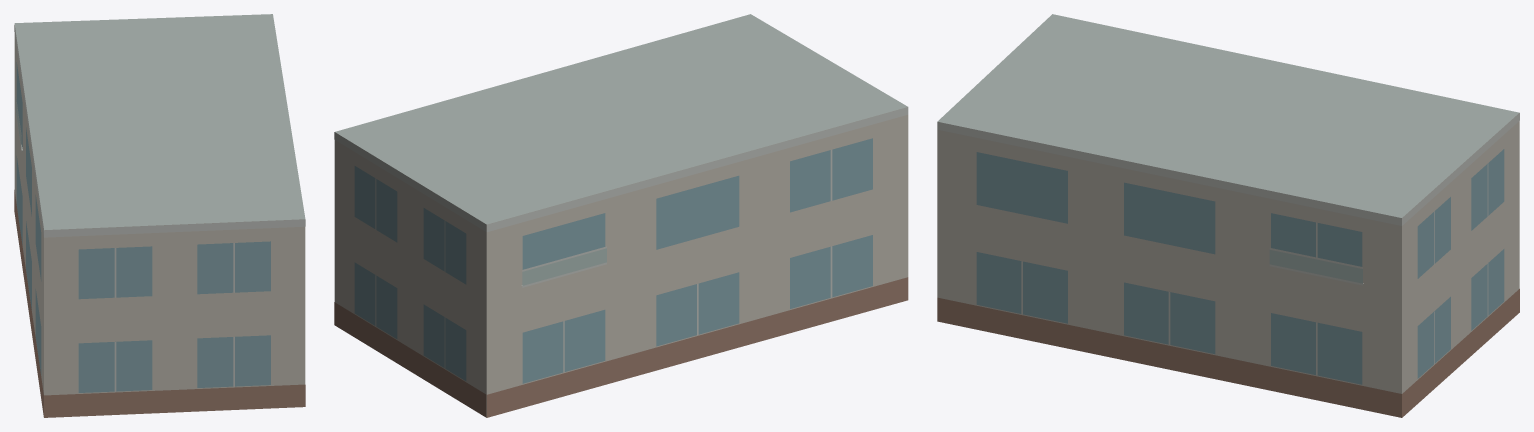
Rendered from survey-upis-32887878.glb.
3 views of the same model, side by side, from view 1: azimuth 30°, elevation 25°; view 2: azimuth 150°, elevation 25°; view 3: azimuth 270°, elevation 25° (orthographic). The views are drawn at different scales.
Parts seen in each view (by area): view 1: survey-upis-32887878.tmp; view 2: survey-upis-32887878.tmp; view 3: survey-upis-32887878.tmp.
Part boxes in pixels (x1,y1,x2,y2): survey-upis-32887878.tmp: [14, 14, 305, 417]; survey-upis-32887878.tmp: [334, 14, 908, 417]; survey-upis-32887878.tmp: [937, 14, 1519, 417].
Bounding box in the file's own units: 13.38 × 6.1 × 16.13.
